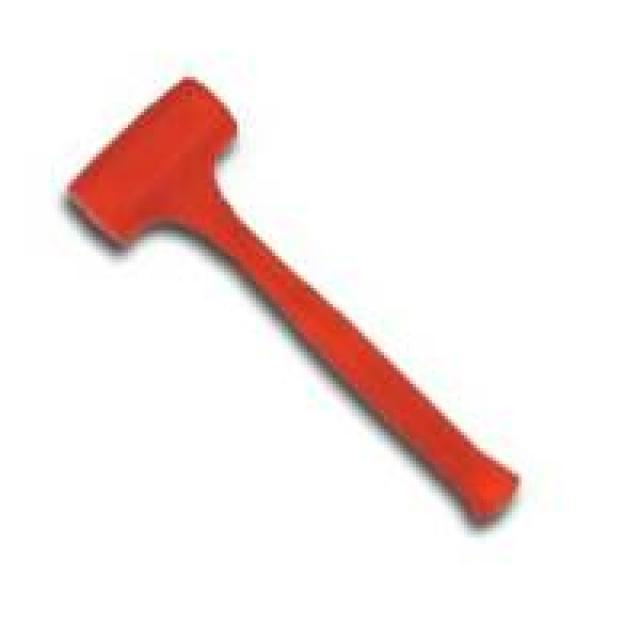hammer: (58, 61, 544, 537)
